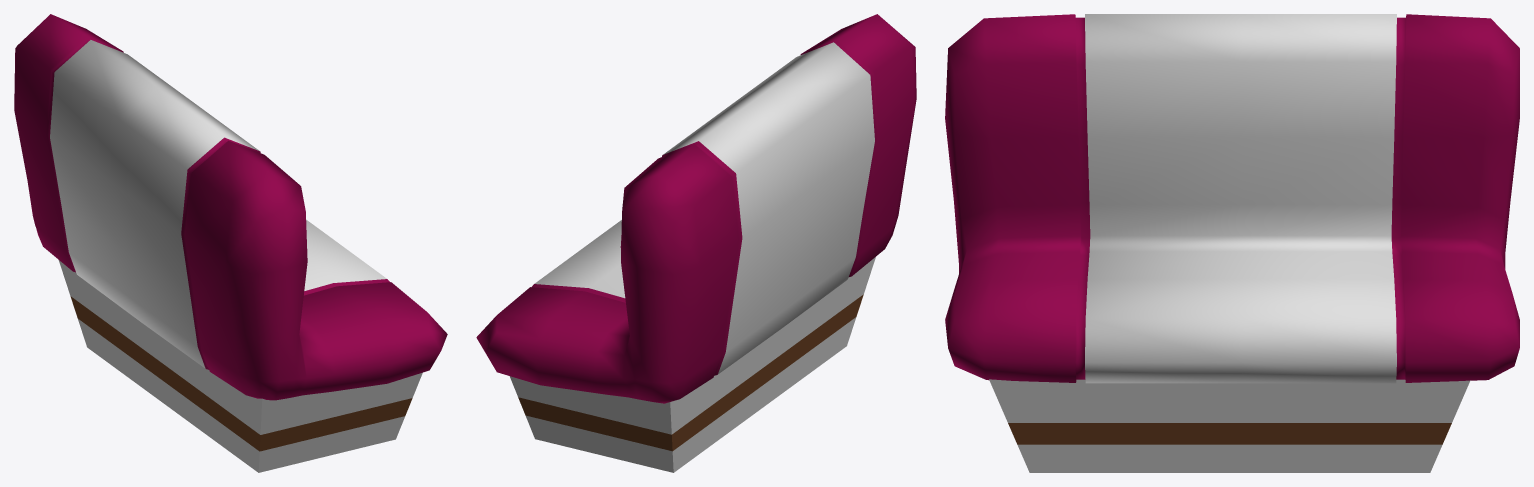
The model's file is diner couch.fbx.
3 renders of one model, left to right at view 1: azimuth 30°, elevation 25°; view 2: azimuth 150°, elevation 25°; view 3: azimuth 270°, elevation 25°, orthographic. The views are drawn at different scales.
Visible parts, largest first — view 1: Cube.179, Cube.180; view 2: Cube.179, Cube.180; view 3: Cube.179, Cube.180.
Part boxes in pixels (x1,y1,x2,y2): Cube.179: (14,14,447,400); Cube.180: (58,260,422,472); Cube.179: (476,14,916,403); Cube.180: (509,257,875,472); Cube.179: (945,14,1519,383); Cube.180: (989,379,1470,472).
Bounding box in the file's own units: 161 × 219 × 304.
